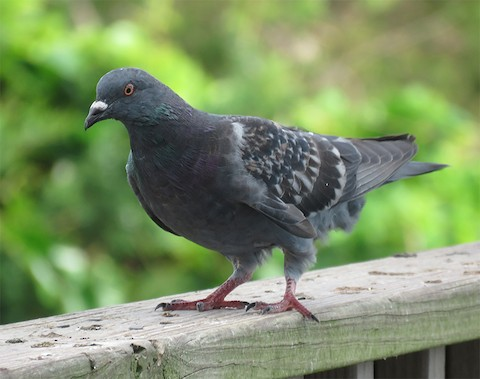pigeon: (82, 56, 453, 323)
